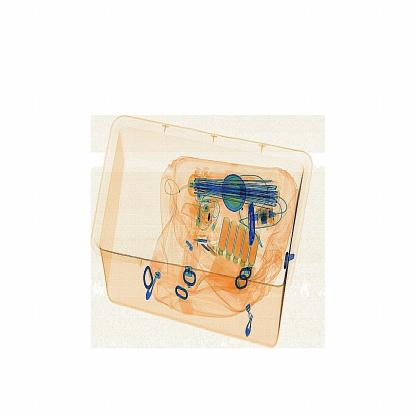knife: (242, 198, 259, 245)
